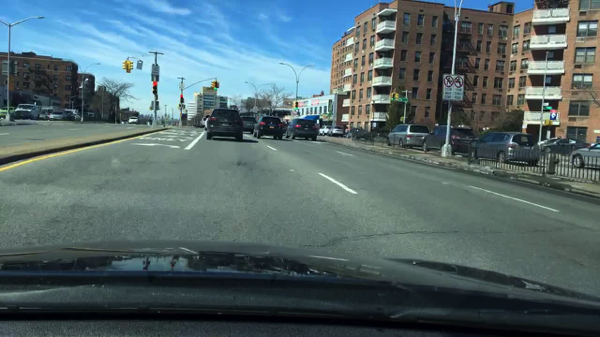car: (472, 130, 541, 167), (422, 124, 477, 155), (206, 108, 244, 141), (386, 124, 430, 149), (543, 137, 590, 156), (569, 141, 599, 169), (253, 116, 283, 140), (286, 118, 317, 141), (241, 115, 257, 133), (346, 127, 368, 140), (368, 126, 391, 138), (537, 137, 561, 147), (1, 106, 17, 118), (49, 111, 66, 121), (330, 125, 344, 137), (41, 106, 53, 119), (318, 126, 331, 136), (204, 114, 211, 132), (128, 117, 140, 125), (66, 110, 74, 121), (281, 122, 288, 133), (200, 116, 206, 128), (194, 120, 200, 127), (120, 119, 127, 125)
traffic light: (152, 80, 157, 94), (129, 61, 134, 71), (543, 119, 550, 126), (390, 92, 395, 101), (395, 92, 399, 102), (122, 61, 126, 70), (210, 80, 214, 88), (180, 93, 183, 103), (398, 116, 403, 122), (294, 101, 298, 108), (214, 81, 217, 90), (217, 81, 220, 89)
traffic sign: (453, 74, 465, 102), (442, 74, 452, 101), (150, 64, 160, 75), (549, 109, 557, 120), (135, 61, 143, 70), (399, 97, 408, 103), (543, 106, 551, 110), (178, 104, 183, 109), (180, 83, 184, 89)
truck: (15, 103, 41, 120), (70, 109, 80, 113)
